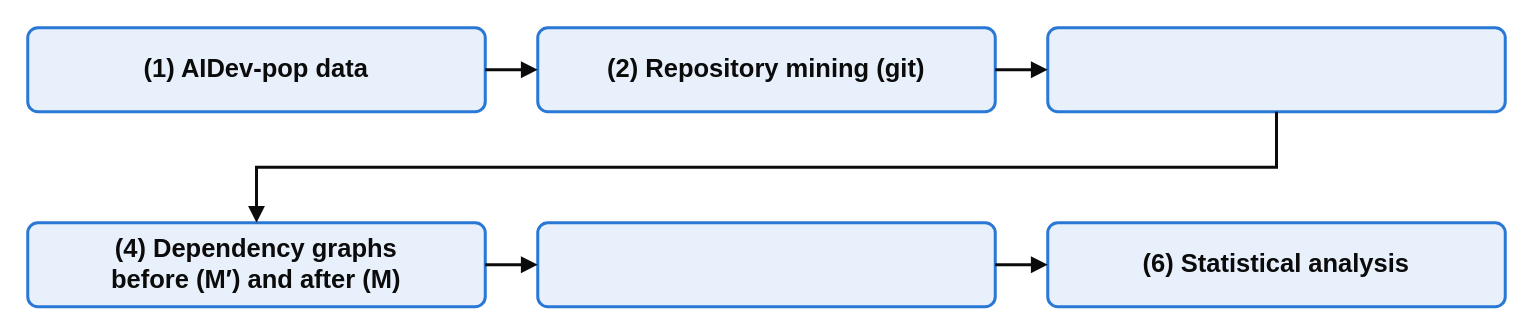
The diagram is 1532 pixels wide and 333 high, and some of its shapes have lost their labels. Each missing label, with the centre of its shape:
(3) Two PR groups: (1276,69)
(5) Erosion metrics (after − before): (766,264)
